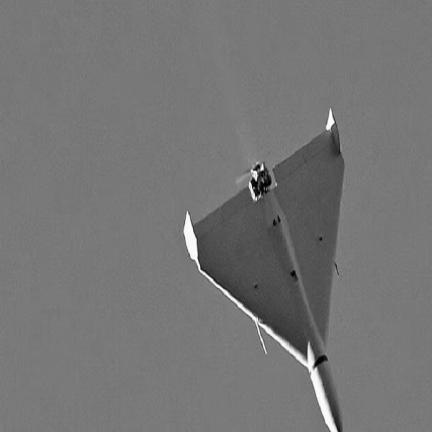Shahed: (184, 109, 344, 431)
